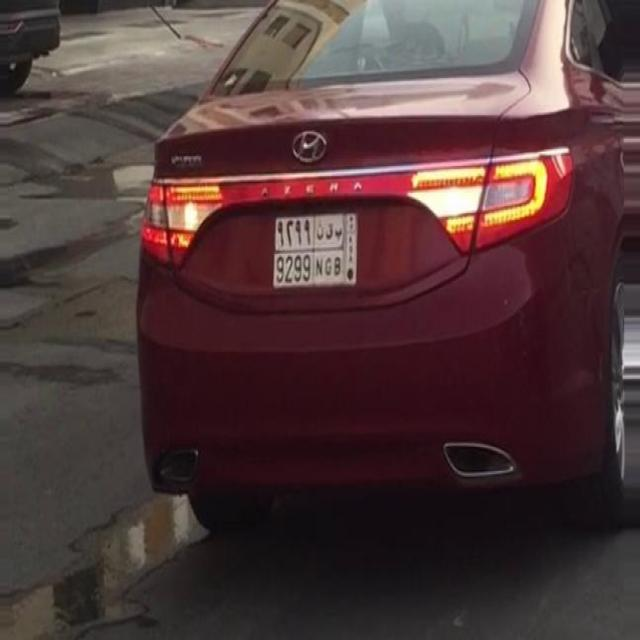Car-plate: (269, 207, 362, 293)
